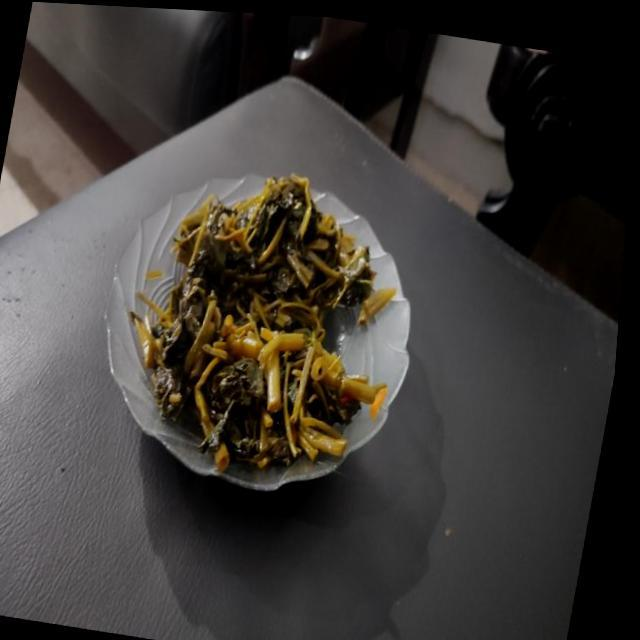tumis_kangkung: (130, 174, 394, 472)
